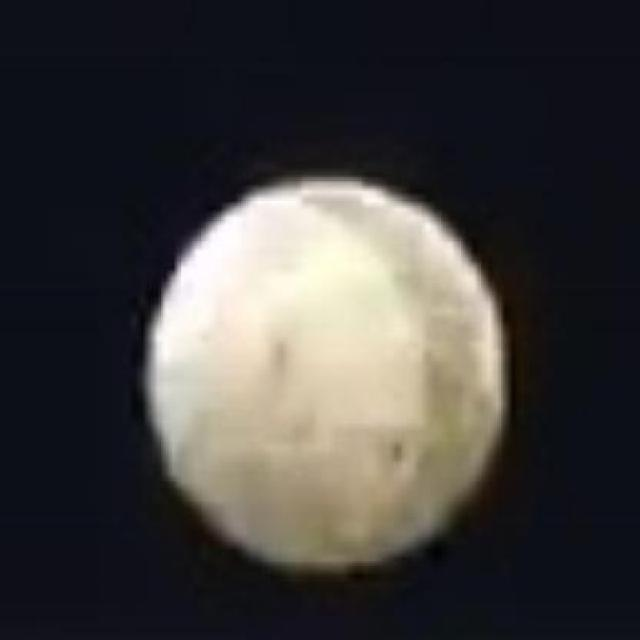Cricket ball: (126, 166, 530, 586)
